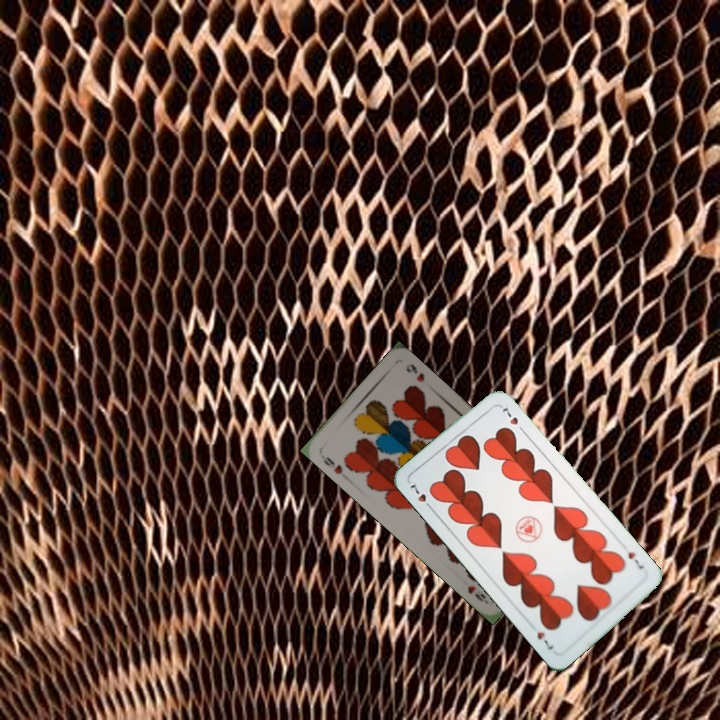H7: (406, 480, 436, 513), (624, 547, 646, 572)
H9: (319, 453, 345, 477)
